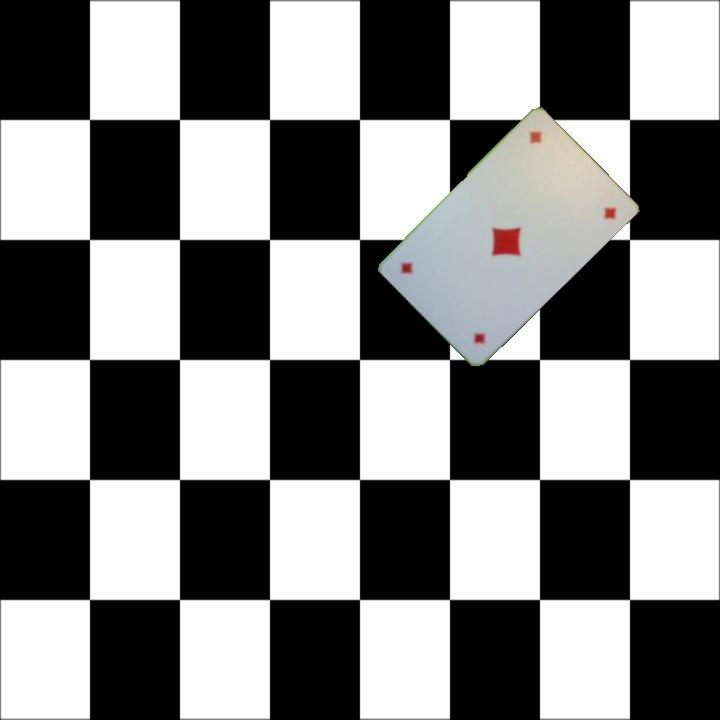d_a.png: (431, 269, 517, 355), (497, 118, 583, 204)
